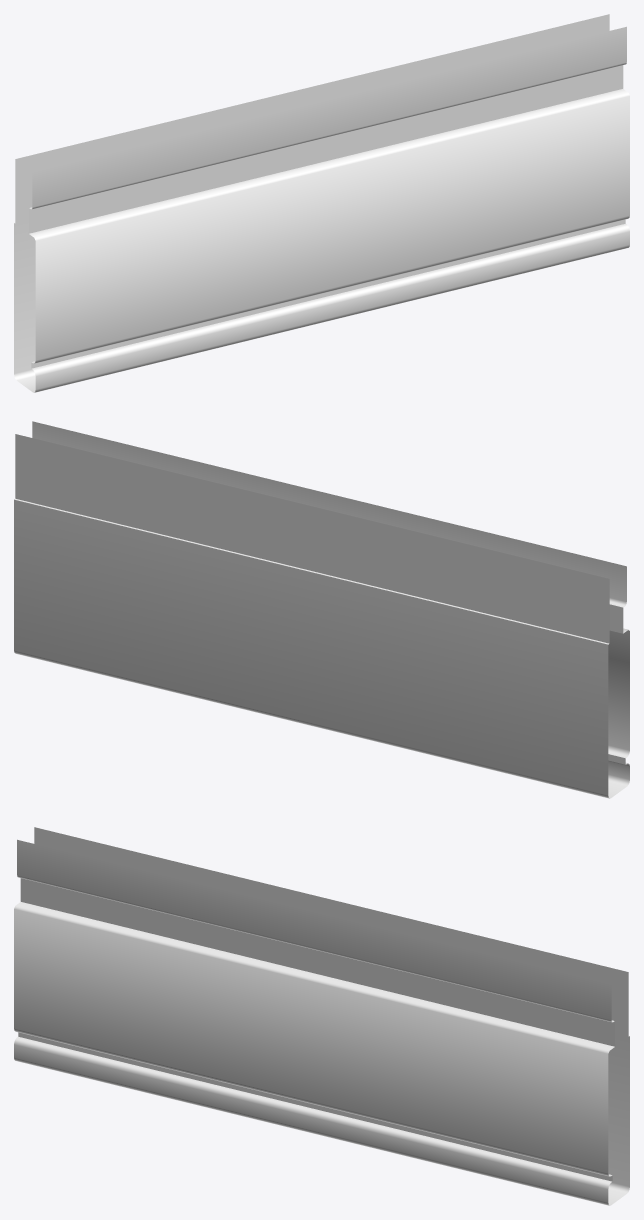
File: original-44.obj
3 views of the same model, one above another, from view 1: azimuth 30°, elevation 25°; view 2: azimuth 150°, elevation 25°; view 3: azimuth 330°, elevation 25° (orthographic).
Visible parts, largest first — view 1: DF_21_BC1/DF_21_BC/mesh30/mesh30-geometry#mesh30-geometry; view 2: DF_21_BC1/DF_21_BC/mesh30/mesh30-geometry#mesh30-geometry; view 3: DF_21_BC1/DF_21_BC/mesh30/mesh30-geometry#mesh30-geometry.
Part boxes in pixels (x1=…): DF_21_BC1/DF_21_BC/mesh30/mesh30-geometry#mesh30-geometry: x1=14, y1=14, x2=629, y2=392; DF_21_BC1/DF_21_BC/mesh30/mesh30-geometry#mesh30-geometry: x1=14, y1=421, x2=629, y2=798; DF_21_BC1/DF_21_BC/mesh30/mesh30-geometry#mesh30-geometry: x1=14, y1=827, x2=629, y2=1205.
Size of the model in its own units: 0.5283 by 0.1872 by 0.0333.
